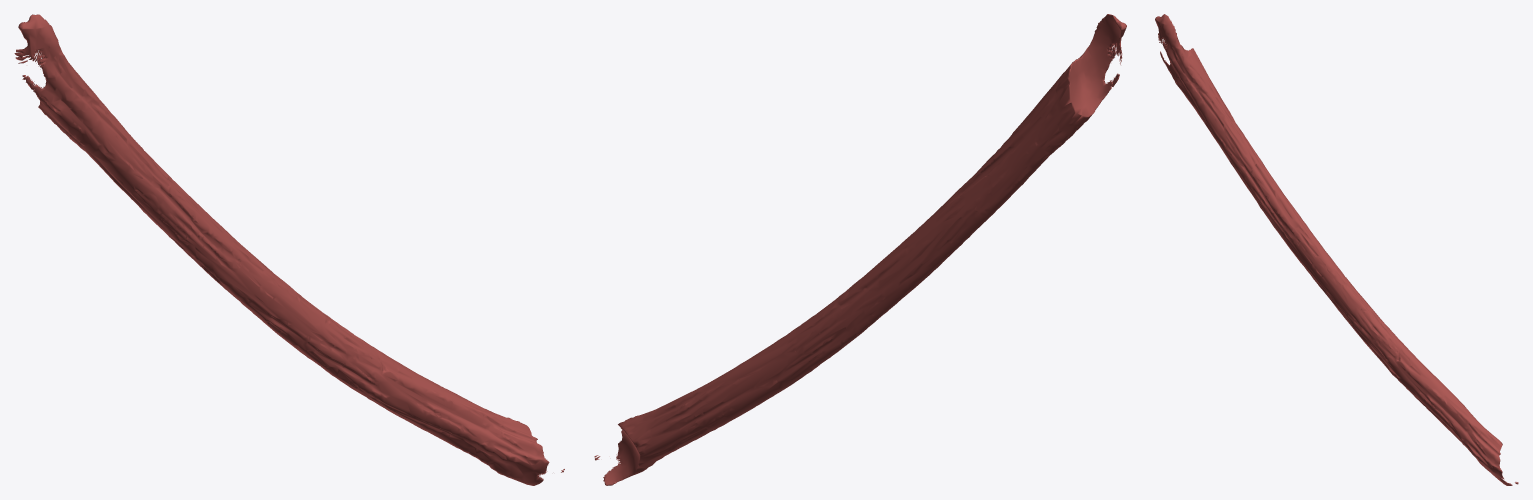
The model's file is FMA21964.glb.
3 views of the same model, side by side, from view 1: azimuth 30°, elevation 25°; view 2: azimuth 150°, elevation 25°; view 3: azimuth 330°, elevation 25° (orthographic). The views are drawn at different scales.
Visible parts, largest first — view 1: FMA21964; view 2: FMA21964; view 3: FMA21964.
Part boxes in pixels (bbox=[...]): FMA21964: bbox=[14, 14, 564, 485]; FMA21964: bbox=[594, 14, 1126, 485]; FMA21964: bbox=[1155, 14, 1518, 485].
Size of the model in its own units: 0.1043 by 0.1096 by 0.0091.
